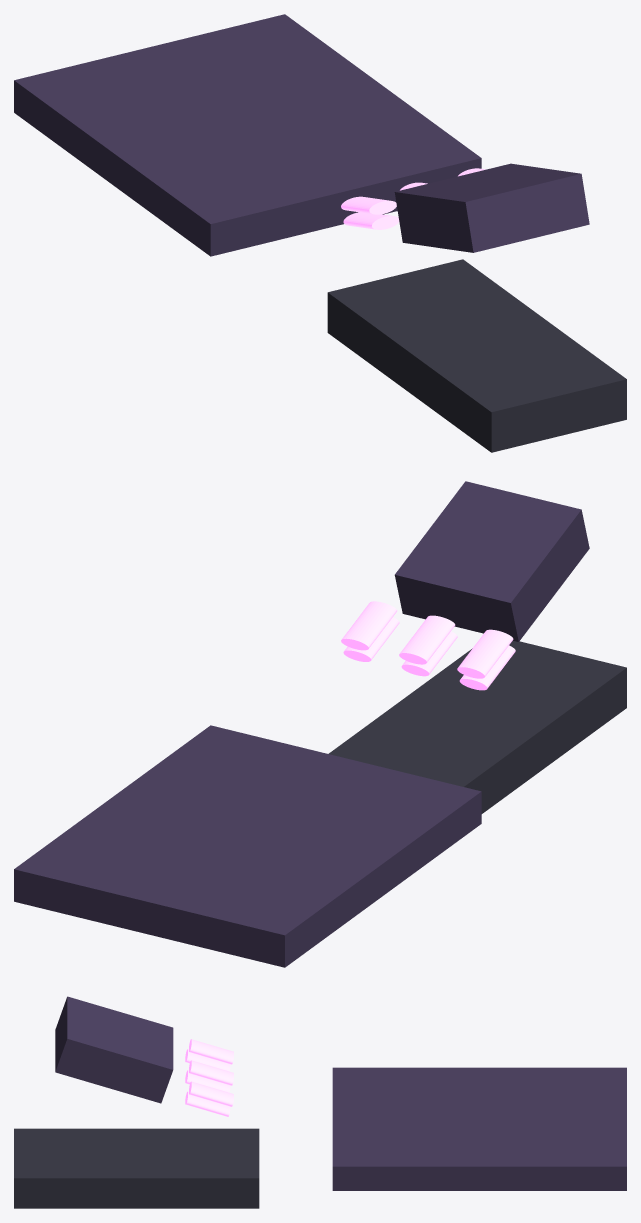
Rendered from CH_DeltaDelayArtillery_LOD2.glb.
3 views of the same model, one above another, from view 1: azimuth 30°, elevation 25°; view 2: azimuth 150°, elevation 25°; view 3: azimuth 270°, elevation 25° (orthographic). The views are drawn at different scales.
Parts seen in each view (by area): view 1: Cube.001, Cube, Cube.002, Cylinder, Cylinder.001; view 2: Cube.001, Cube, Cube.002, Cylinder, Cylinder.004, Cylinder.002, Cylinder.003, Cylinder.001, Cylinder.005; view 3: Cube.001, Cube, Cube.002, Cylinder, Cylinder.002, Cylinder.004, Cylinder.005, Cylinder.001, Cylinder.003.
Part boxes in pixels (<box>): Cube.001: <box>14,14,481,256</box>; Cube: <box>327,259,626,452</box>; Cube.002: <box>394,163,589,252</box>; Cylinder: <box>341,196,396,214</box>; Cylinder.001: <box>343,212,399,229</box>; Cube.001: <box>14,725,481,967</box>; Cube: <box>328,641,626,813</box>; Cube.002: <box>394,481,589,641</box>; Cylinder: <box>457,629,513,678</box>; Cylinder.004: <box>341,601,397,650</box>; Cylinder.002: <box>399,615,455,664</box>; Cylinder.003: <box>401,631,457,676</box>; Cylinder.001: <box>459,645,515,690</box>; Cylinder.005: <box>343,617,399,661</box>; Cube.001: <box>332,1067,626,1190</box>; Cube: <box>14,1128,259,1208</box>; Cube.002: <box>55,996,173,1103</box>; Cylinder: <box>189,1039,233,1064</box>; Cylinder.002: <box>189,1060,233,1085</box>; Cylinder.004: <box>189,1081,233,1106</box>; Cylinder.005: <box>185,1091,230,1116</box>; Cylinder.001: <box>185,1049,230,1071</box>; Cylinder.003: <box>185,1070,230,1092</box>.
Size of what is drawn, in the model's own units: 4.2 by 3.29 by 11.
